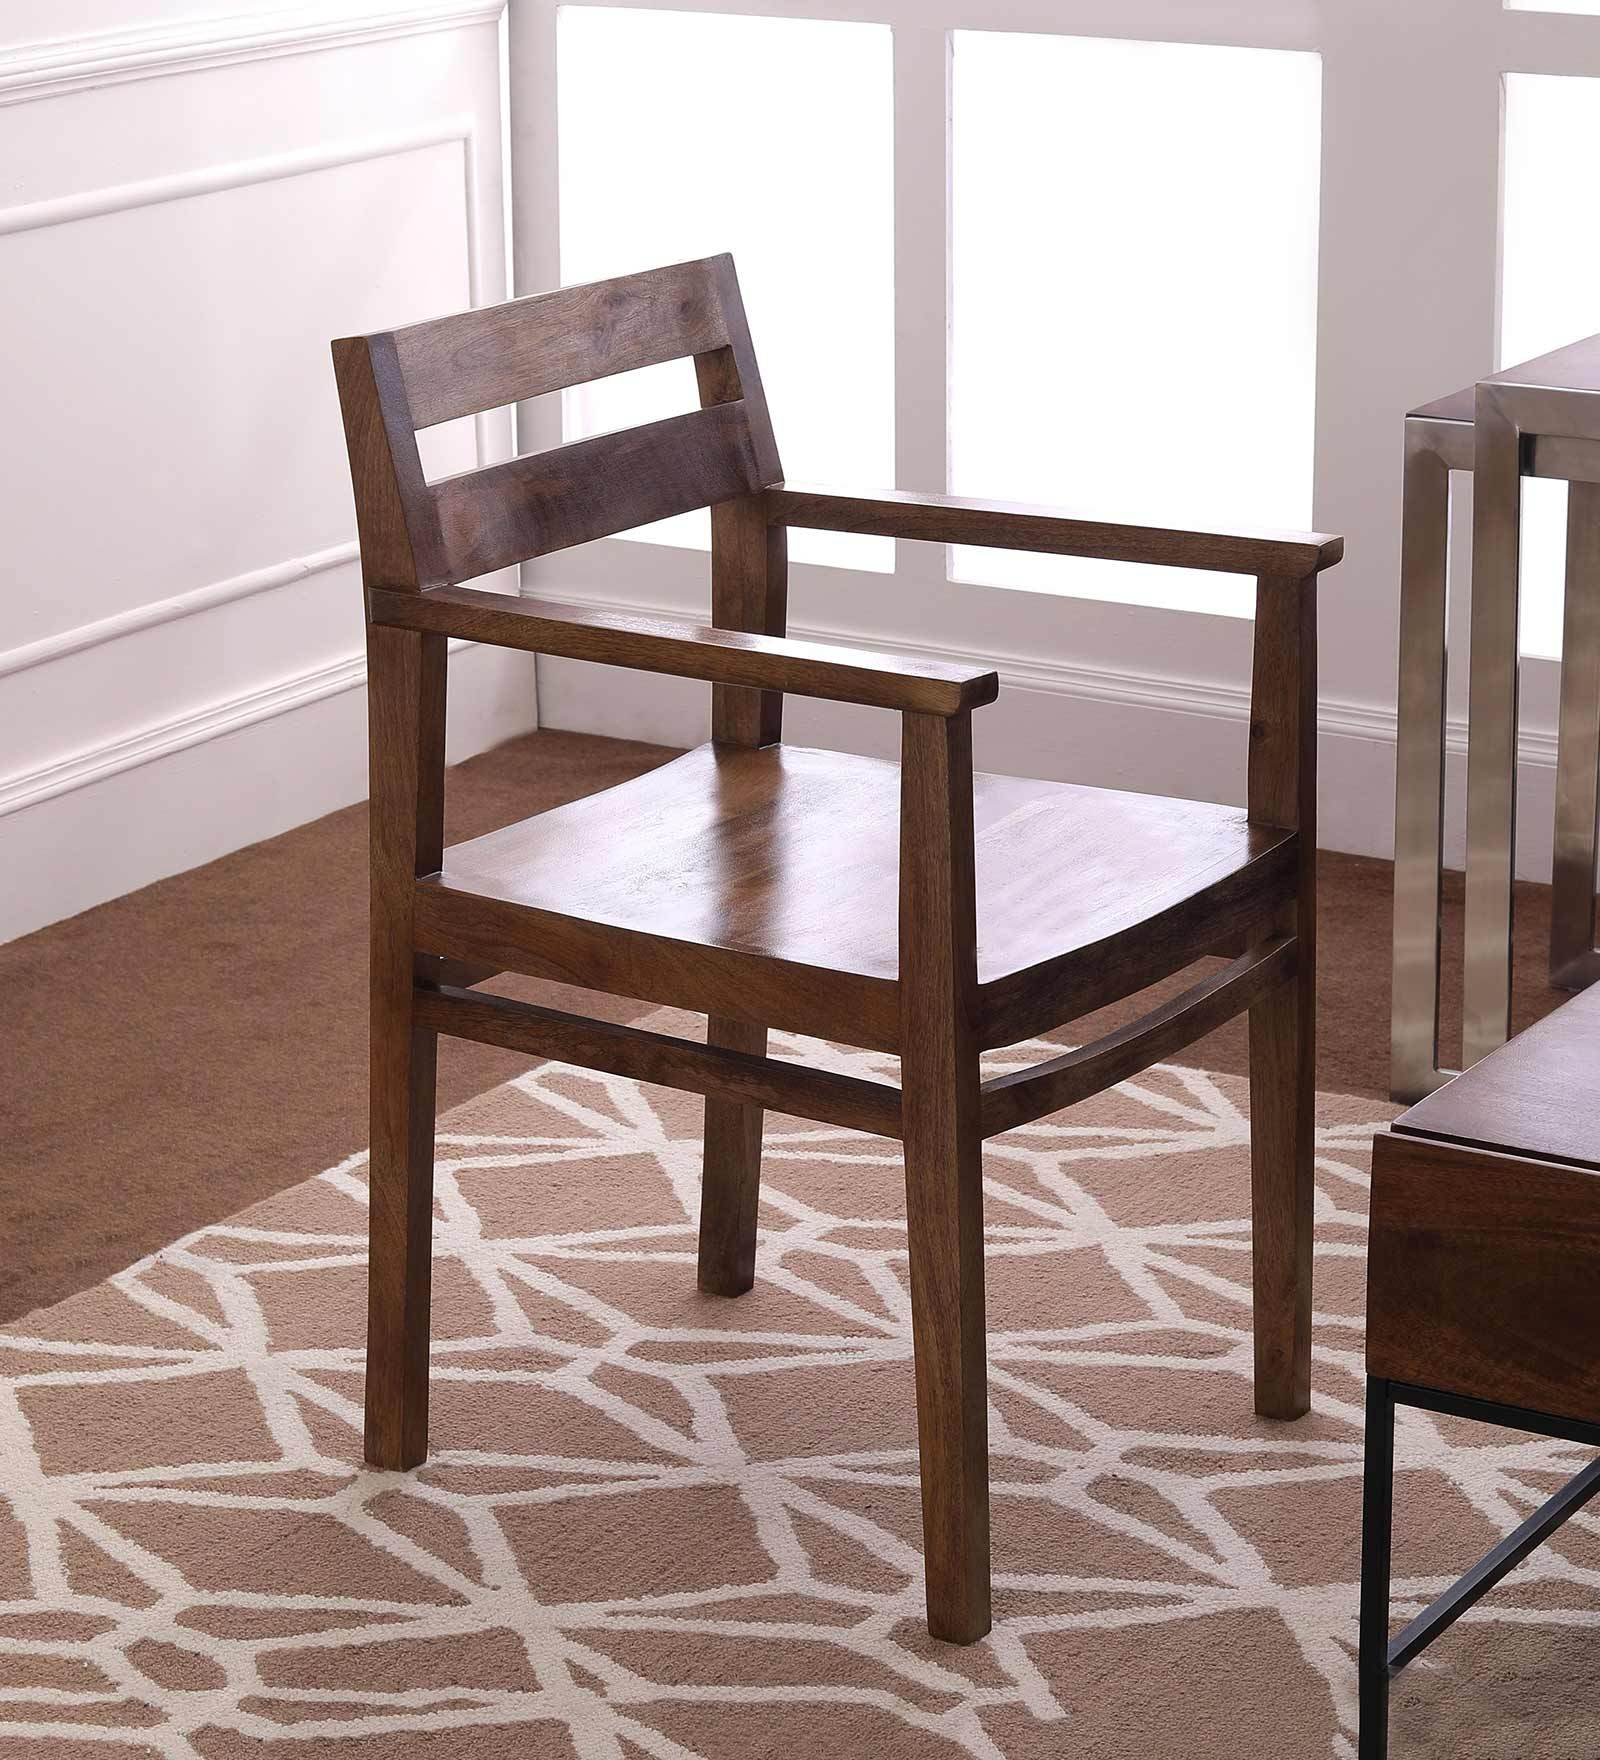Barcelona Solid Wood Arm Chair in Natural Finish by TheArmchair: (322, 231, 1326, 1677)
